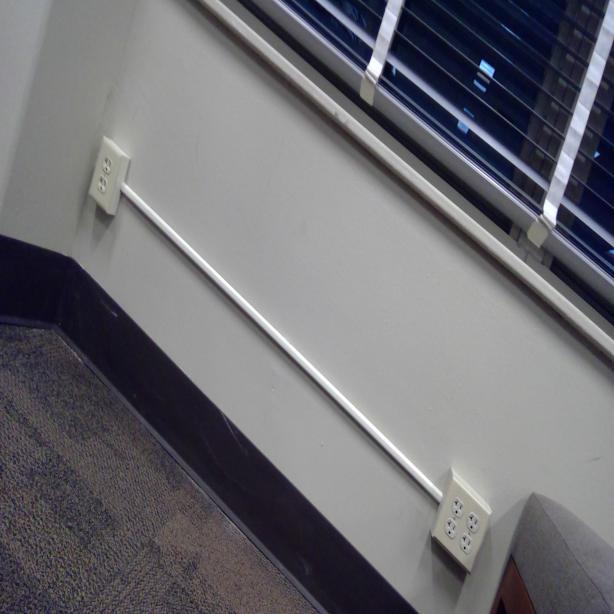typeb: (467, 508, 480, 534), (460, 531, 473, 555), (444, 517, 458, 539), (101, 152, 114, 175), (452, 495, 464, 518), (95, 175, 108, 196)
